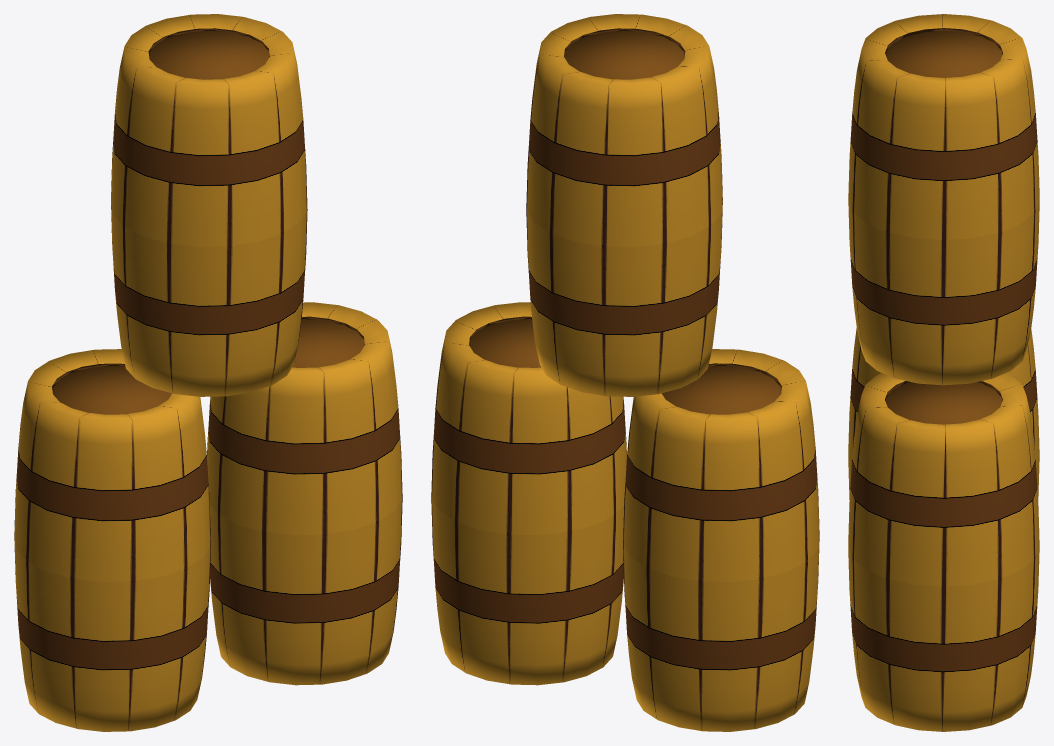
Rendered from barrel.obj.
3 views of the same model, side by side, from view 1: azimuth 30°, elevation 25°; view 2: azimuth 150°, elevation 25°; view 3: azimuth 270°, elevation 25° (orthographic). The views are drawn at different scales.
Visible parts, largest first — view 1: Line004, Line001, Line005, Cylinder008, Cylinder002, Cylinder010; view 2: Line004, Line001, Line005, Cylinder008, Cylinder002, Cylinder010; view 3: Line004, Line005, Cylinder008, Cylinder010, Line001, Cylinder007.
Part boxes in pixels (x1,y1,x2,y2): Line004: [111, 14, 307, 396]; Line001: [14, 349, 210, 731]; Line005: [207, 302, 402, 685]; Cylinder008: [150, 30, 269, 79]; Cylinder002: [53, 366, 171, 414]; Cylinder010: [292, 319, 364, 367]; Line004: [526, 14, 722, 396]; Line001: [623, 349, 819, 731]; Line005: [431, 302, 626, 685]; Cylinder008: [564, 30, 683, 79]; Cylinder002: [662, 366, 780, 414]; Cylinder010: [469, 319, 540, 367]; Line004: [848, 14, 1039, 385]; Line005: [848, 373, 1039, 731]; Cylinder008: [886, 30, 1001, 77]; Cylinder010: [886, 382, 1001, 424]; Line001: [848, 328, 1039, 499]; Cylinder007: [885, 28, 1002, 55].
Bounding box in the file's own units: 1704 × 2795 × 805.
3 materials, 1 textured.
